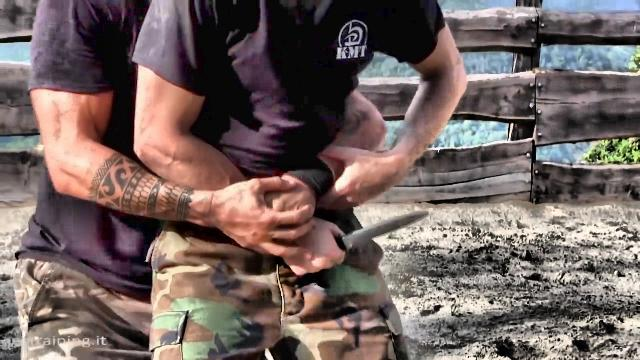knife: (288, 204, 432, 276)
